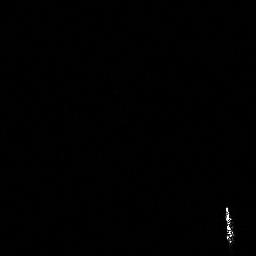ship: (221, 204, 238, 248)
